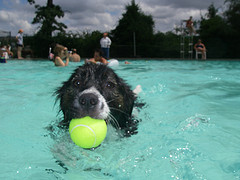tennis ball: (66, 115, 110, 150)
